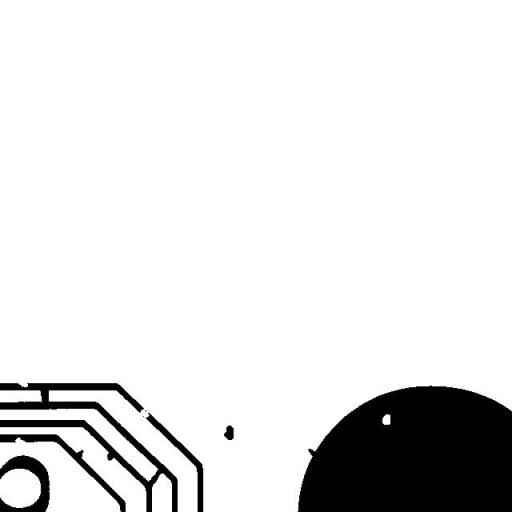copper: (216, 418, 241, 447)
mousebite: (10, 374, 36, 394), (7, 430, 33, 450)
open: (131, 398, 157, 429)
pin-hole: (374, 406, 398, 432)
short: (139, 459, 171, 495), (31, 378, 58, 414)
spur: (300, 441, 326, 464), (66, 442, 92, 464), (99, 442, 121, 468)
